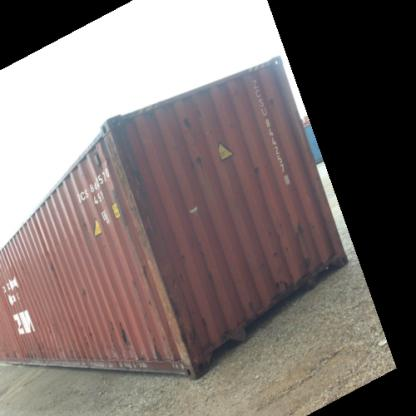Damage: (102, 130, 150, 255), (159, 268, 188, 335), (139, 332, 189, 370), (0, 340, 61, 365), (64, 321, 93, 359), (197, 310, 217, 356), (291, 251, 314, 285), (67, 212, 98, 236), (180, 104, 203, 134), (266, 226, 284, 260), (184, 147, 208, 171), (239, 294, 263, 316), (263, 88, 281, 115), (267, 278, 289, 300), (38, 248, 59, 270), (291, 215, 308, 239), (136, 262, 152, 287), (117, 321, 132, 347), (247, 158, 264, 177), (74, 281, 90, 300), (174, 247, 189, 260)
